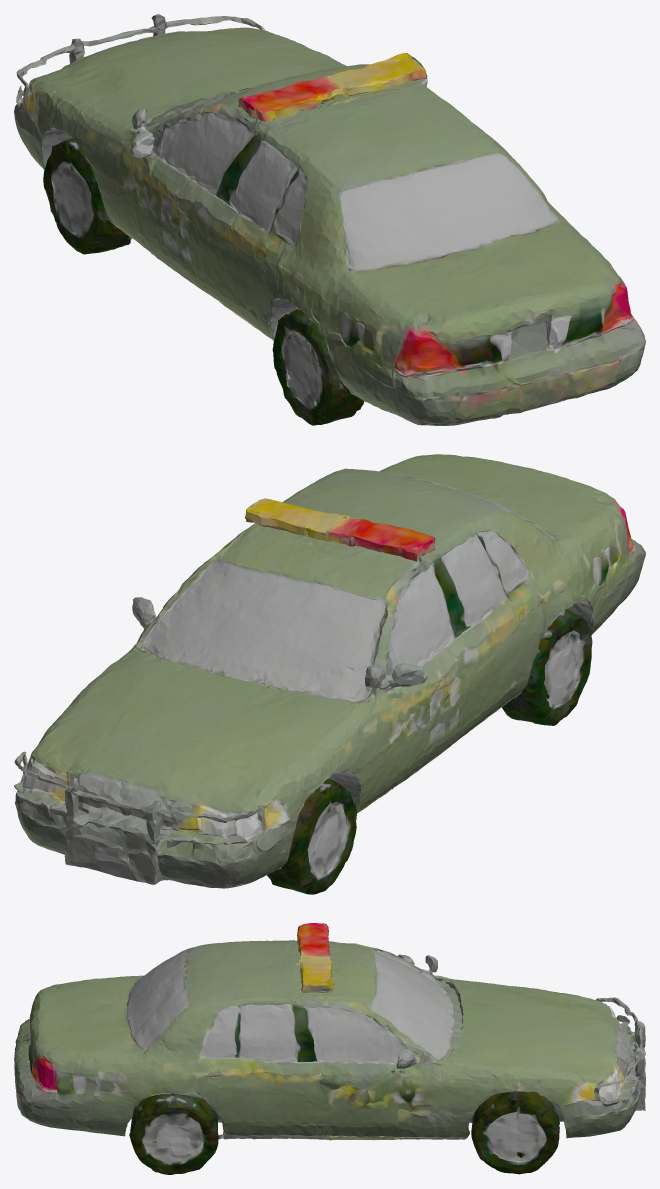
The picture shows the model from 3 angles, top to bottom: view 1: azimuth 30°, elevation 25°; view 2: azimuth 150°, elevation 25°; view 3: azimuth 270°, elevation 25°; orthographic projection. The views are drawn at different scales.
Parts seen in each view (by area): view 1: defaultobject; view 2: defaultobject; view 3: defaultobject.
Boxes of the visible parts, x1,y1,x2,y2 form: defaultobject: [14, 14, 645, 425]; defaultobject: [14, 454, 645, 894]; defaultobject: [14, 923, 645, 1174].
Bounding box in the file's own units: 0.3761 × 0.2921 × 0.9512.
